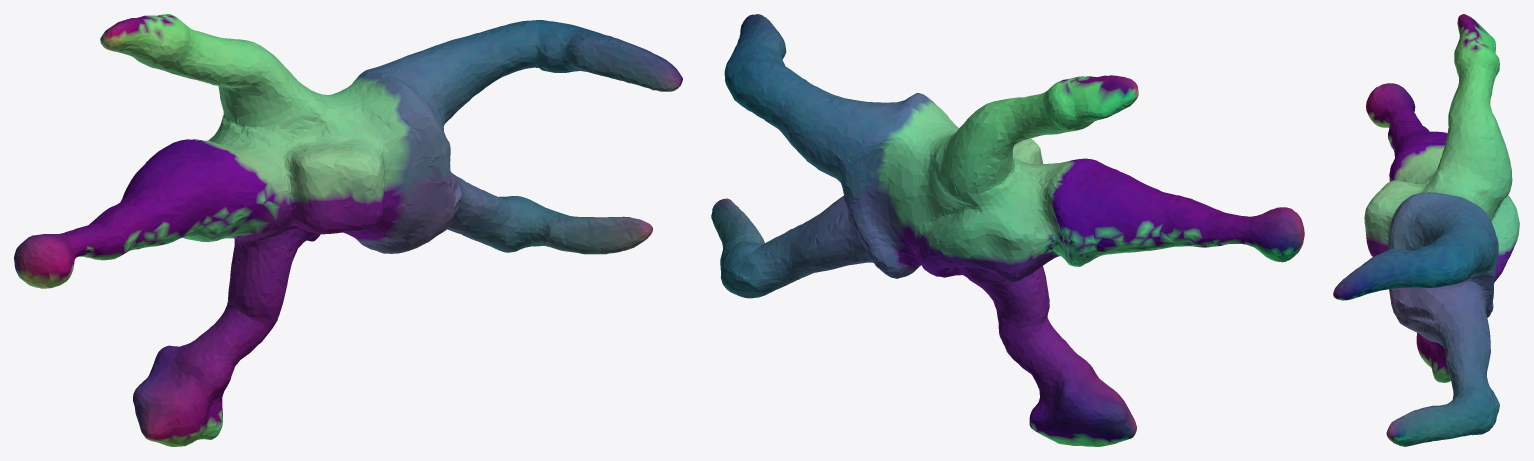
The model's file is santa-15.off.obj.
The picture shows the model from 3 angles, left to right: view 1: azimuth 30°, elevation 25°; view 2: azimuth 150°, elevation 25°; view 3: azimuth 270°, elevation 25°; orthographic projection. The views are drawn at different scales.
Bounding box in the file's own units: 1.7 × 1.09 × 0.5448.
